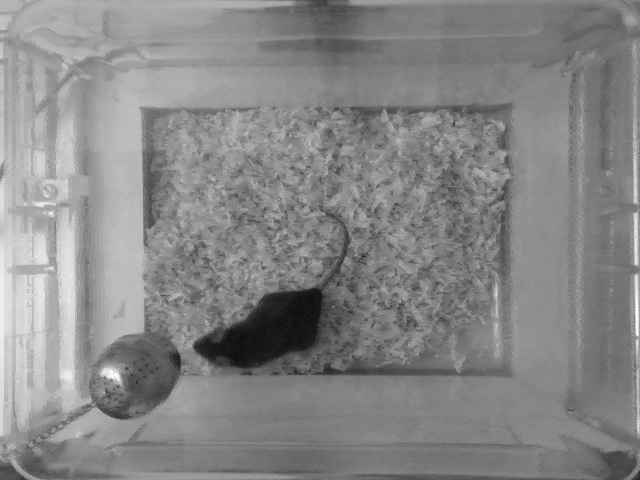mice: (195, 209, 354, 366)
